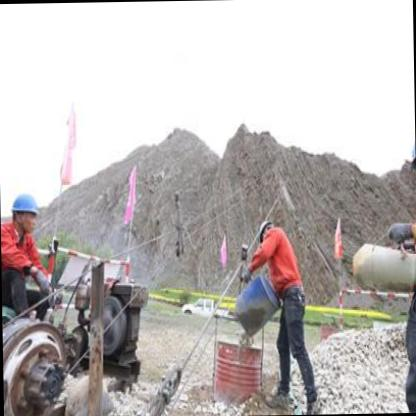helmet: (7, 188, 43, 238), (404, 119, 416, 190), (254, 216, 274, 248)
